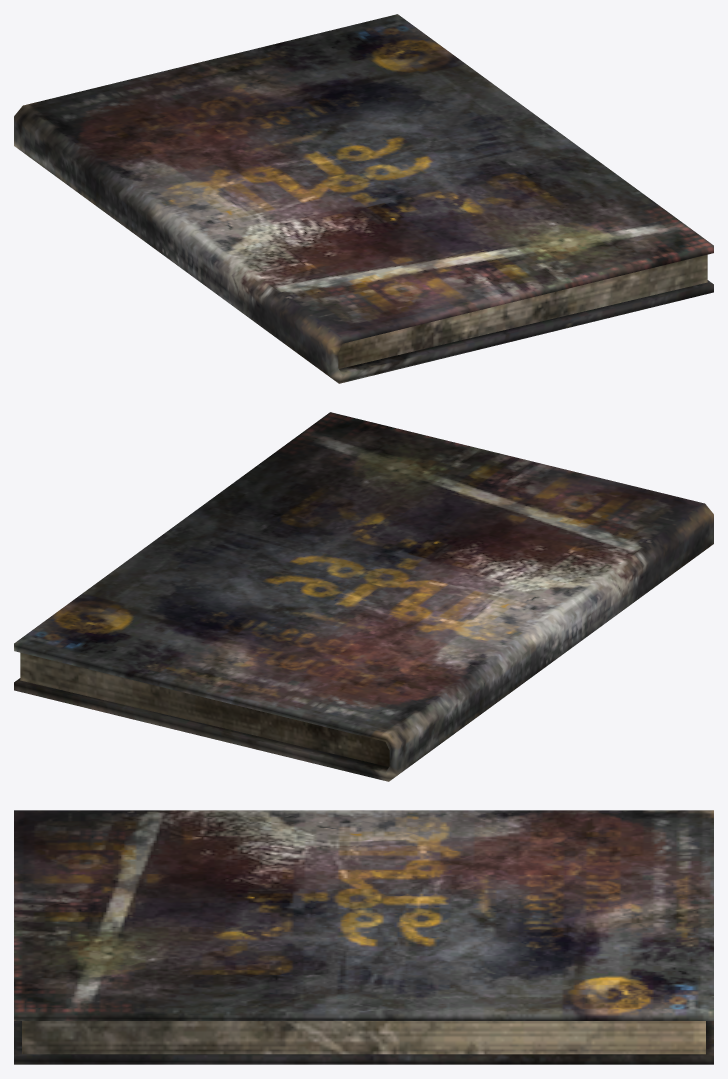
Rendered from book05.FBX.
The picture shows the model from 3 angles, top to bottom: view 1: azimuth 30°, elevation 25°; view 2: azimuth 150°, elevation 25°; view 3: azimuth 270°, elevation 25°; orthographic projection. The views are drawn at different scales.
Parts seen in each view (by area): view 1: SM_Book05; view 2: SM_Book05; view 3: SM_Book05.
Part boxes in pixels (x1,y1,x2,y2): SM_Book05: (14,14,713,383); SM_Book05: (14,412,713,781); SM_Book05: (14,810,713,1064).
Bounding box in the file's own units: 22.42 × 2.61 × 32.
1 material, 1 textured.
